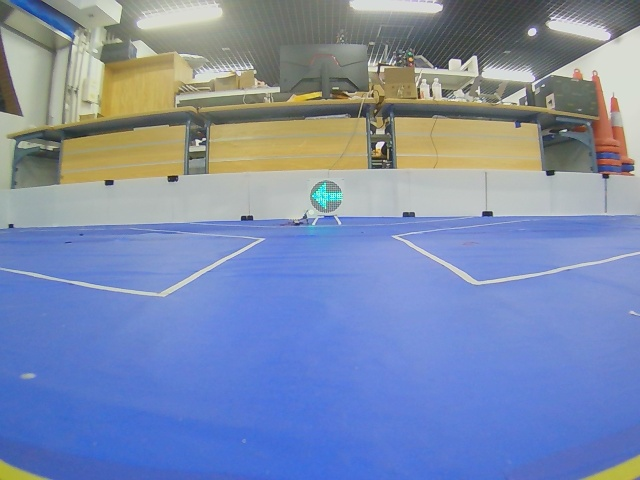left_green: (310, 180, 343, 213)
